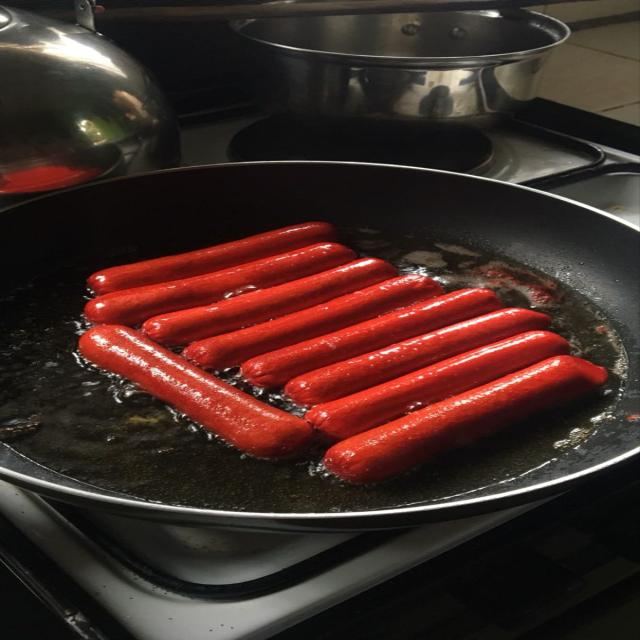sausage: (324, 356, 606, 483), (79, 326, 312, 458), (305, 331, 569, 441), (285, 308, 550, 406), (241, 289, 501, 387), (183, 275, 441, 370), (85, 243, 356, 326), (142, 259, 397, 345), (88, 222, 337, 294)
